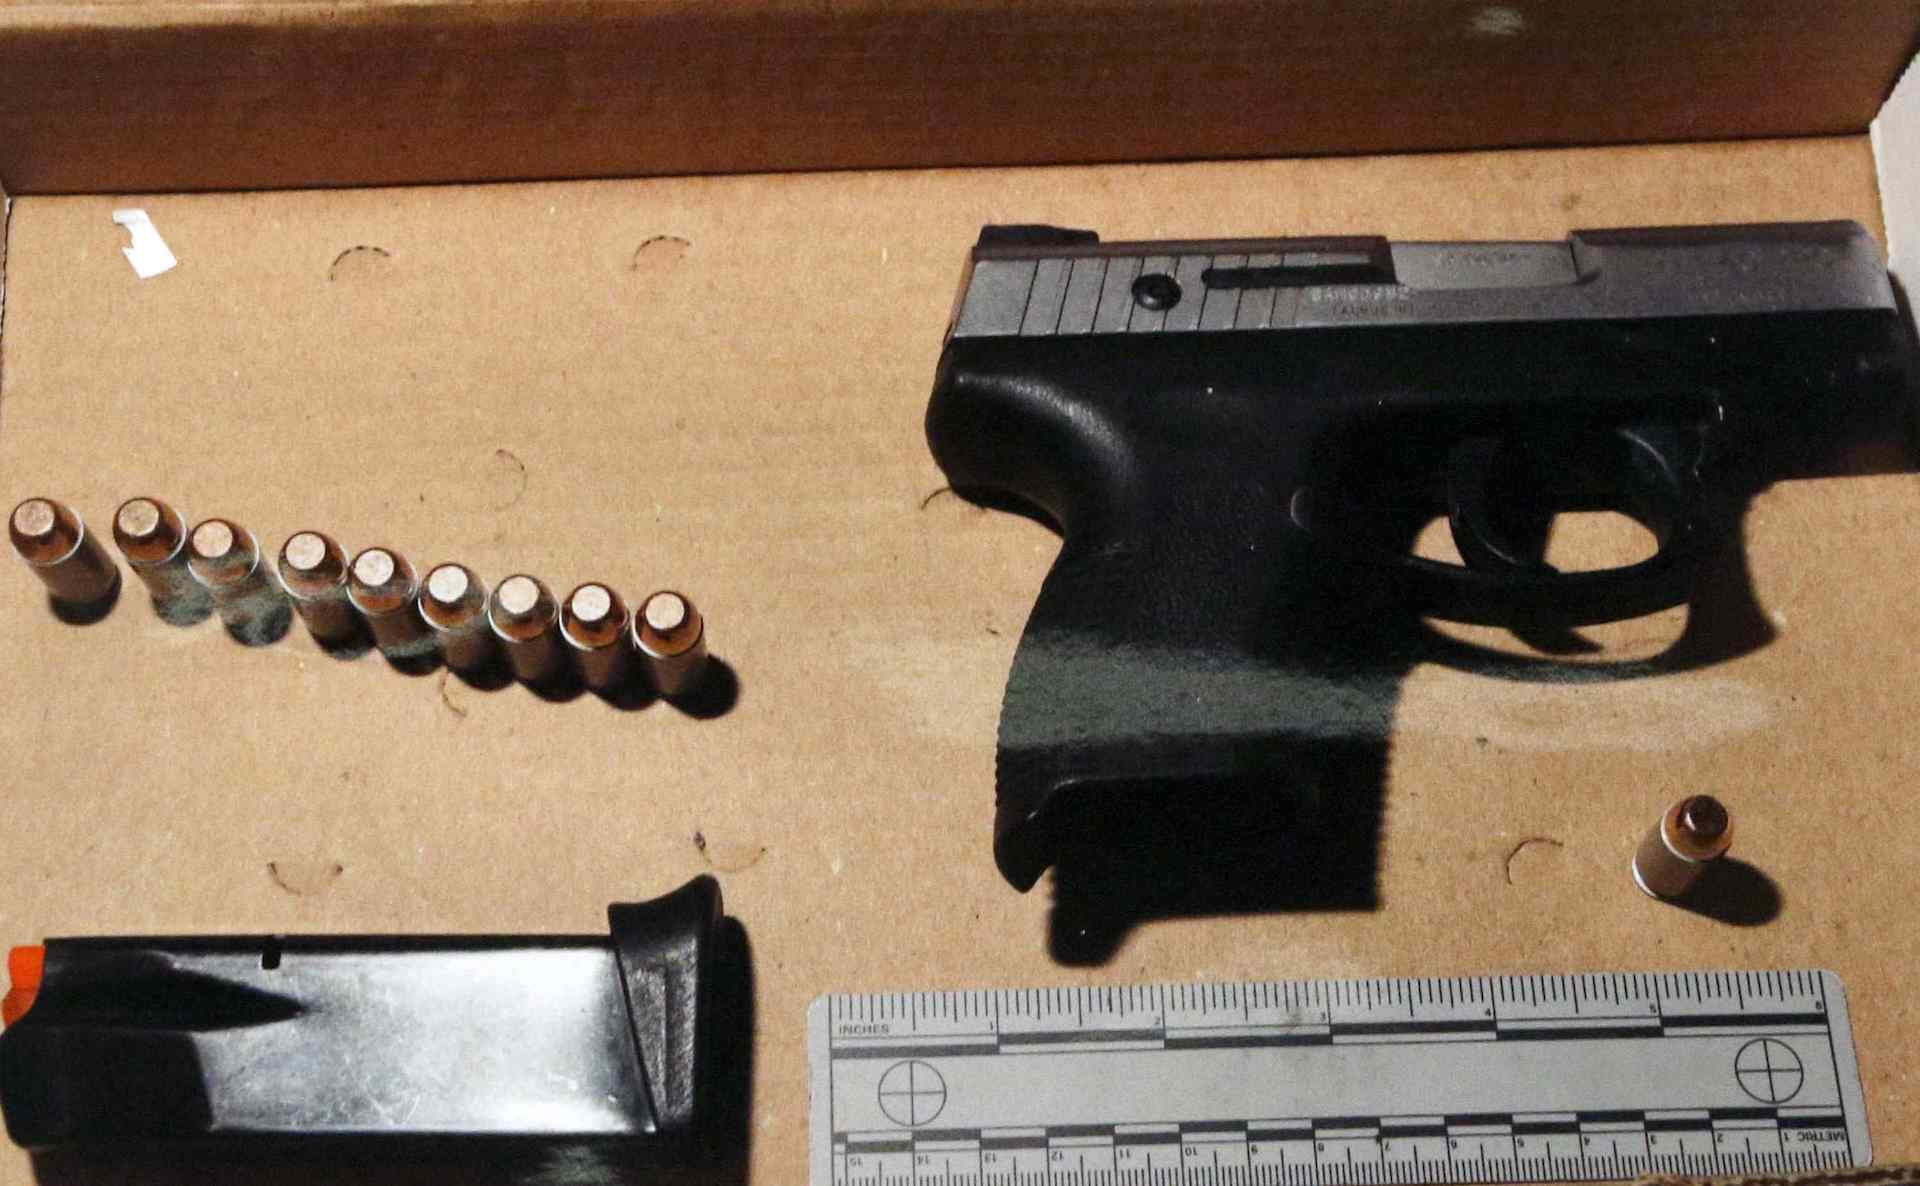pistol: (924, 215, 1920, 897)
